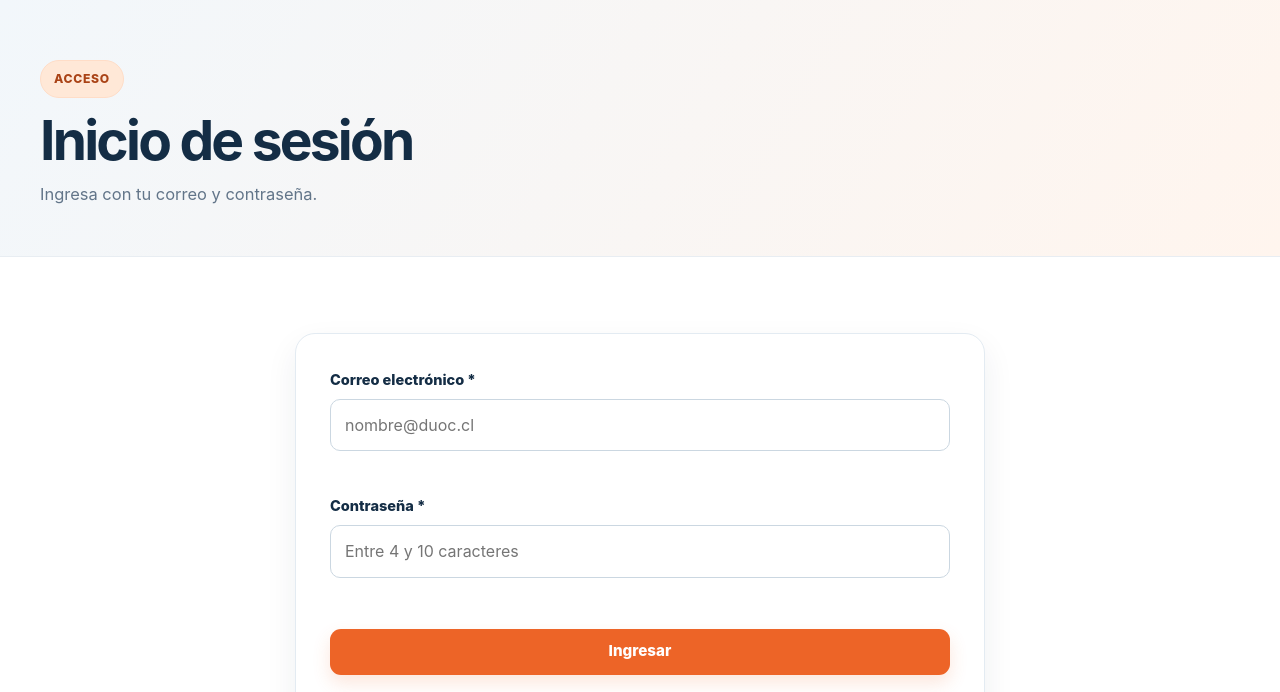
Login › rechaza un correo de dominio no permitido
Type "persona@hotmail.com" into the field labelled "Correo electrónico *" at coordinates (640, 425), box x1=330 y1=399 x2=950 y2=451
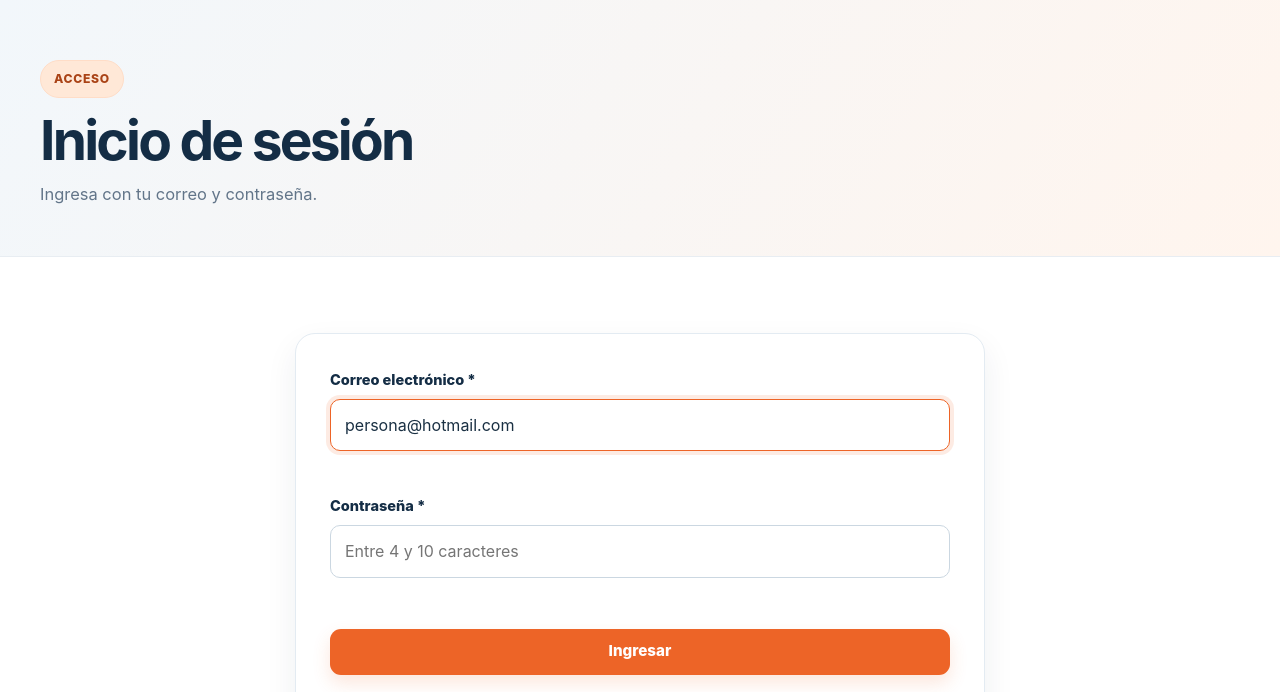
Type "1234" into the password field labelled "Contraseña *" at coordinates (640, 551), box x1=330 y1=525 x2=950 y2=578
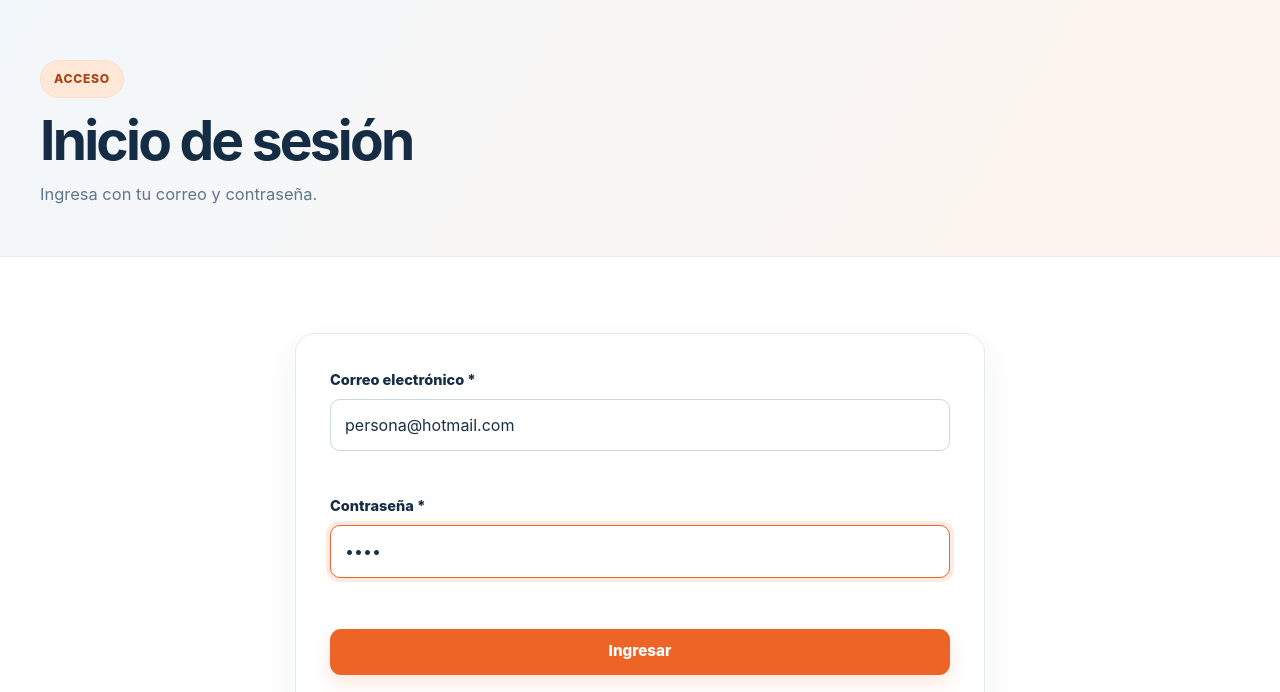
Click the button "Ingresar" at coordinates (640, 652), box x1=330 y1=629 x2=950 y2=675
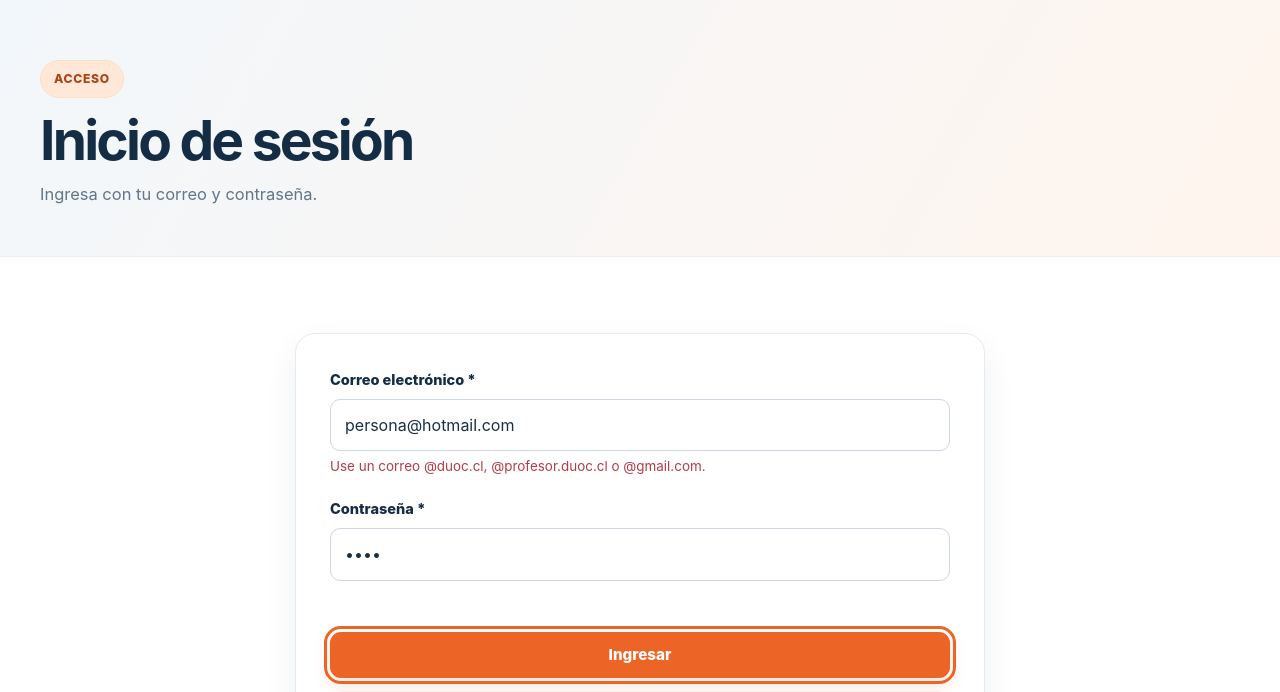
Check: the text "Use un correo @duoc.cl, @profesor.duoc.cl o @gmail.com." is shown, box x1=330 y1=458 x2=706 y2=474
